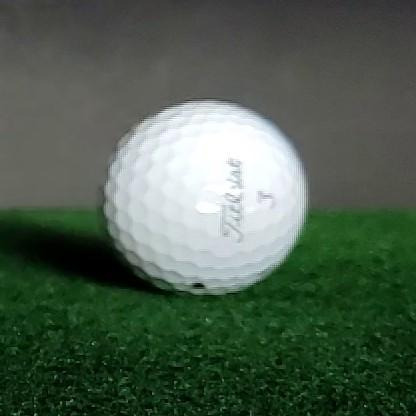golfball: (101, 100, 306, 296)
